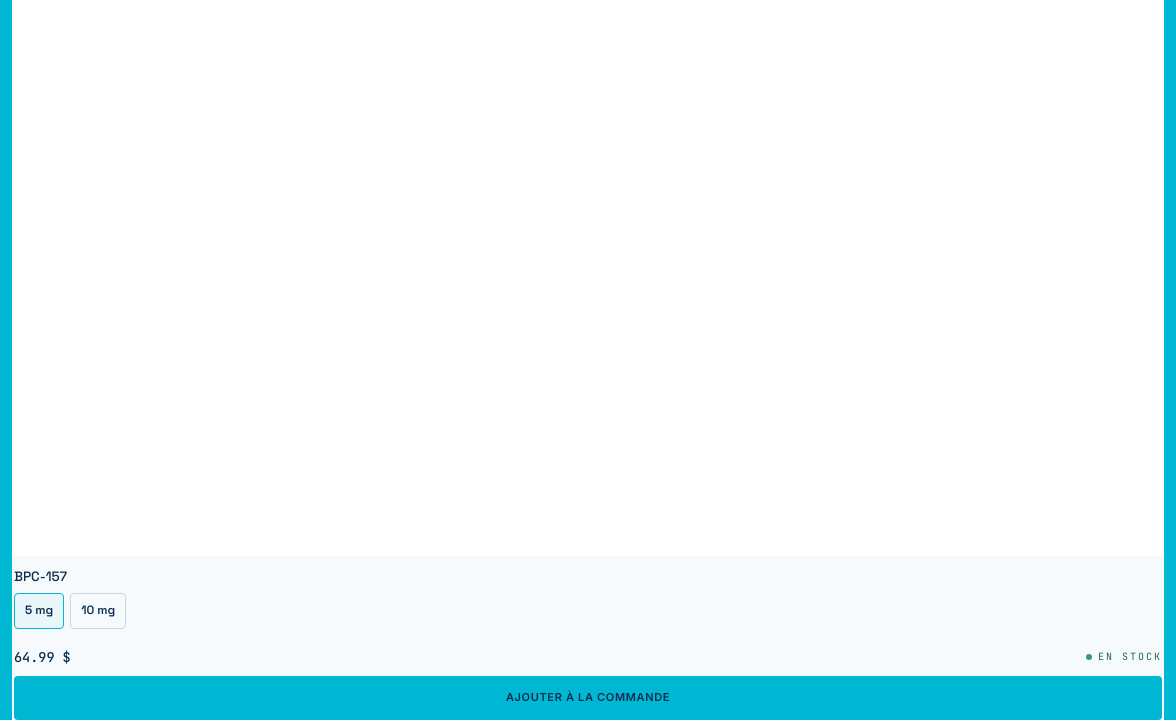
Test: le prix suit la sélection › LE CAS DEMANDÉ : choisir 10 mg change le prix
(page scrolled)
Step 1. Click the button "10 mg" → (98, 611), box [70,593,126,629]
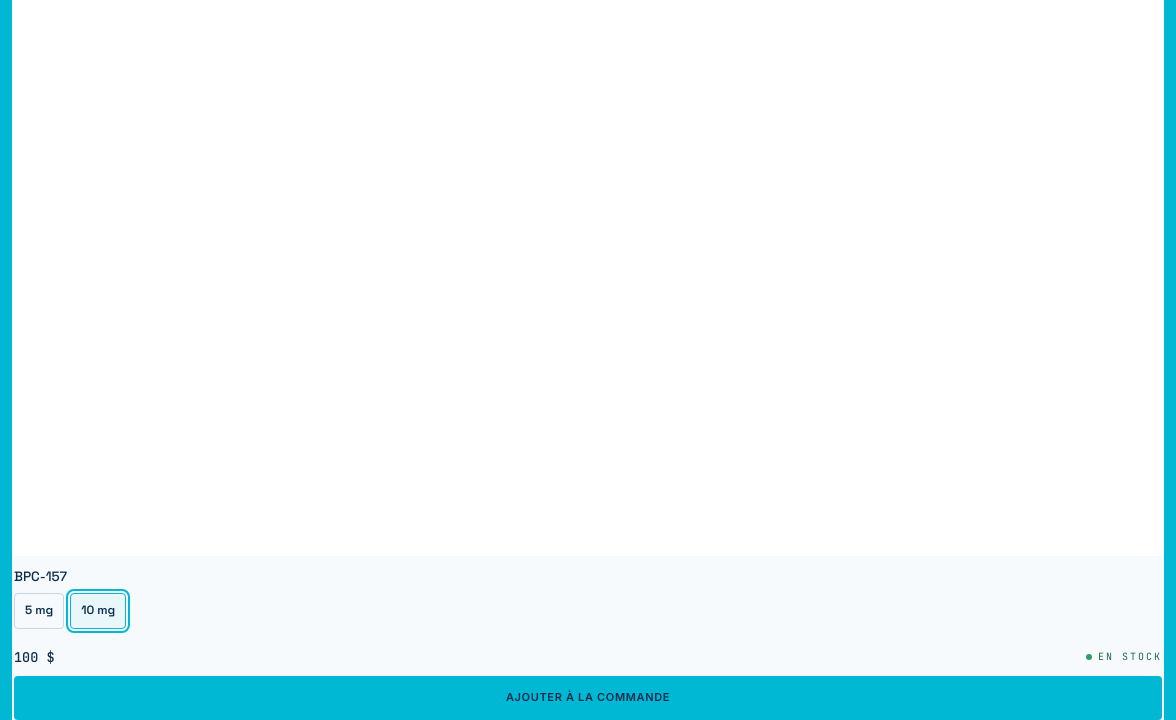
Expected: the text with test id "card-price-bpc-157" shows "100", [14,648,54,666]
Expected: the text with test id "card-price-bpc-157" no longer shows "64.99", [14,647,54,668]
